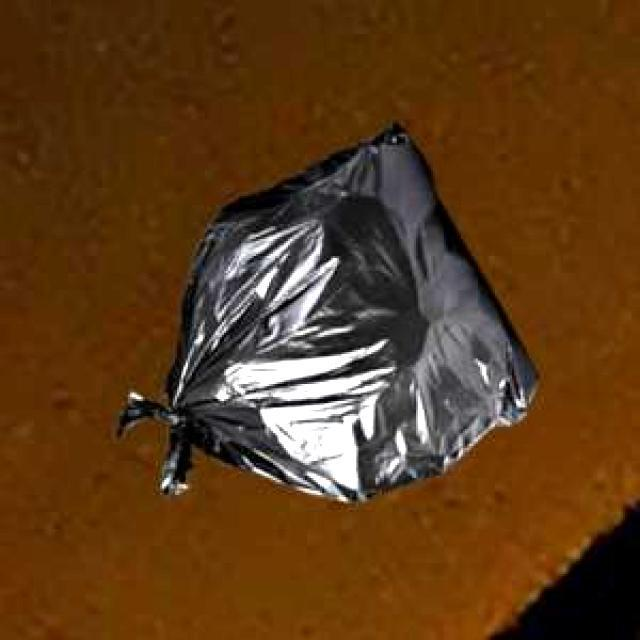Bolsa-de-plastico: (132, 107, 558, 513)
